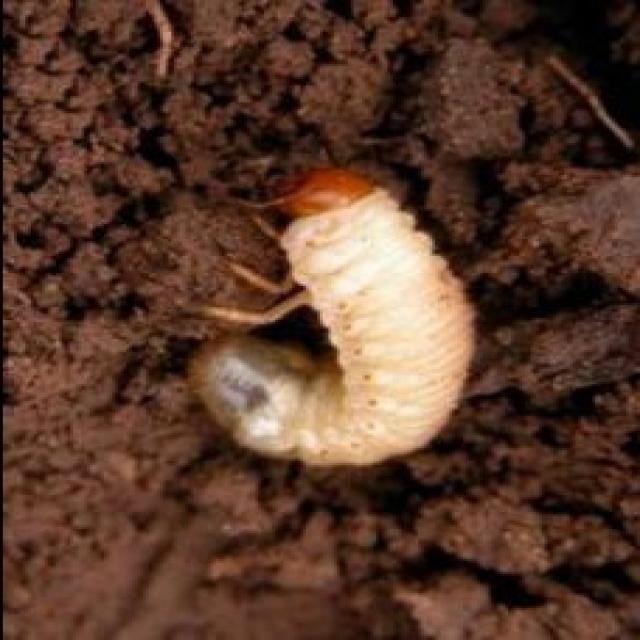grub: (181, 173, 473, 469)
